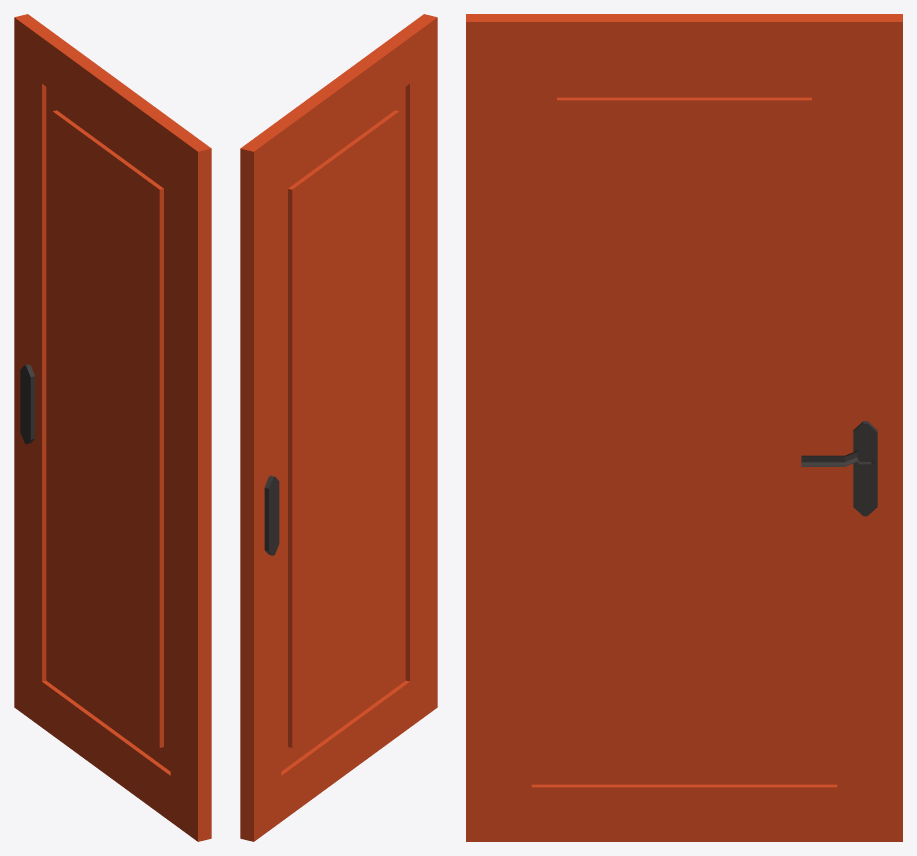
File: Door open close.fbx
The picture shows the model from 3 angles, left to right: view 1: azimuth 30°, elevation 25°; view 2: azimuth 150°, elevation 25°; view 3: azimuth 270°, elevation 25°; orthographic projection. The views are drawn at different scales.
Visible parts, largest first — view 1: Cube.016; view 2: Cube.016; view 3: Cube.016.
Boxes of the visible parts, box(x1,y1,x2,y2) form: Cube.016: box(14, 14, 211, 841); Cube.016: box(240, 14, 437, 841); Cube.016: box(466, 14, 902, 841).
Bounding box in the file's own units: 130 × 268 × 15.39.
